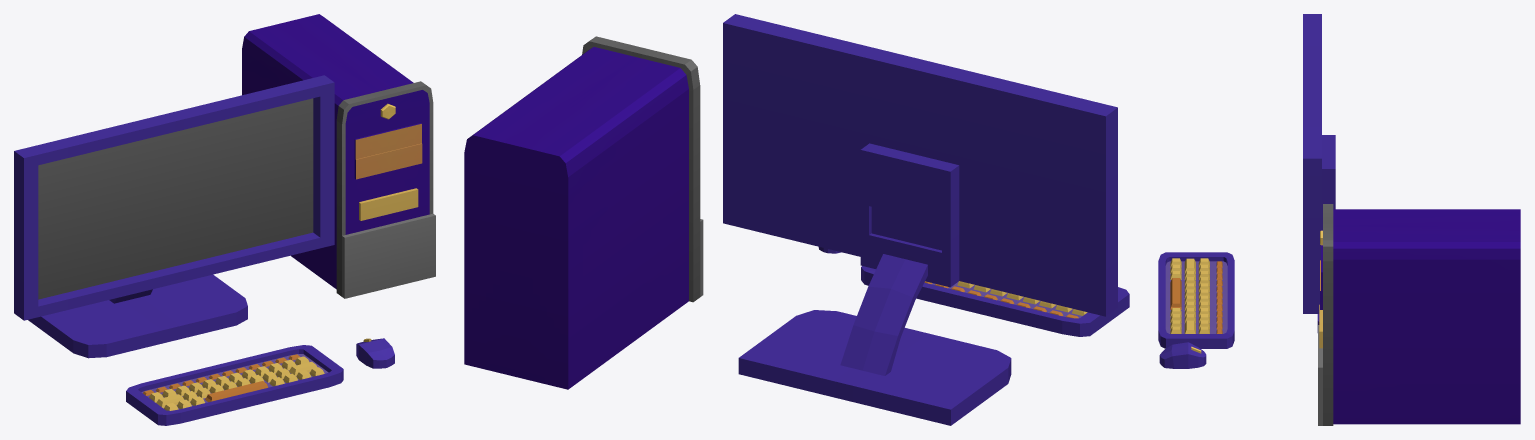
Rendered from sp_computer_all_a.fbx.
3 views of the same model, side by side, from view 1: azimuth 30°, elevation 25°; view 2: azimuth 150°, elevation 25°; view 3: azimuth 270°, elevation 25° (orthographic). The views are drawn at different scales.
Parts seen in each view (by area): view 1: sp_computer_monitor_a, sp_computer_tower_a, sp_computer_keyboard_a, sp_computer_mouse_a; view 2: sp_computer_monitor_a, sp_computer_tower_a, sp_computer_keyboard_a; view 3: sp_computer_tower_a, sp_computer_keyboard_a, sp_computer_monitor_a, sp_computer_mouse_a.
Boxes of the visible parts, bbox=[...] form: sp_computer_monitor_a: bbox=[14, 75, 334, 358]; sp_computer_tower_a: bbox=[242, 14, 435, 298]; sp_computer_keyboard_a: bbox=[126, 345, 343, 425]; sp_computer_mouse_a: bbox=[356, 338, 394, 368]; sp_computer_monitor_a: bbox=[723, 14, 1117, 425]; sp_computer_tower_a: bbox=[464, 36, 703, 389]; sp_computer_keyboard_a: bbox=[861, 266, 1129, 336]; sp_computer_tower_a: bbox=[1318, 204, 1520, 425]; sp_computer_keyboard_a: bbox=[1158, 252, 1234, 348]; sp_computer_monitor_a: bbox=[1303, 14, 1335, 332]; sp_computer_mouse_a: bbox=[1159, 342, 1206, 368].
Size of the model in its own units: 206 by 108 by 161.
